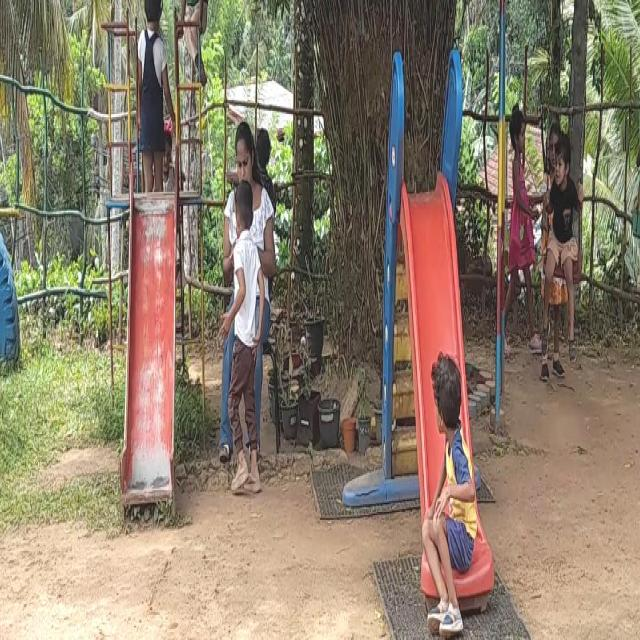child: (416, 348, 473, 628), (230, 186, 258, 490), (503, 99, 534, 355), (134, 0, 166, 186), (548, 132, 568, 386), (171, 0, 210, 89)
